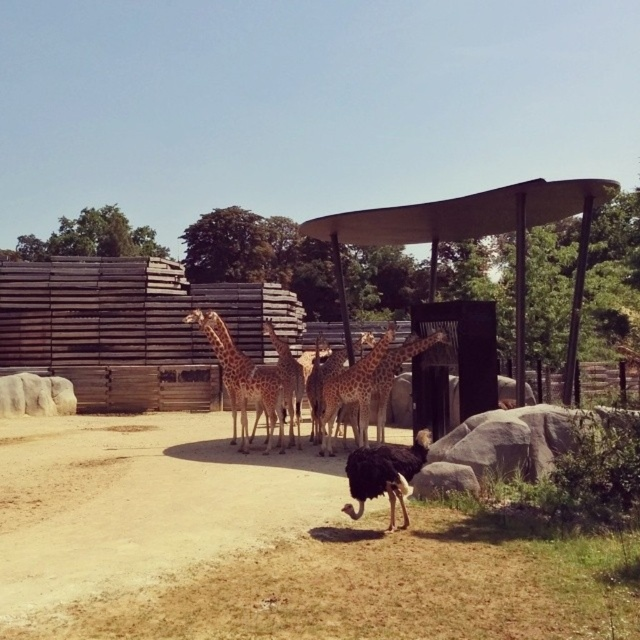Ostrich: (336, 424, 436, 531)
